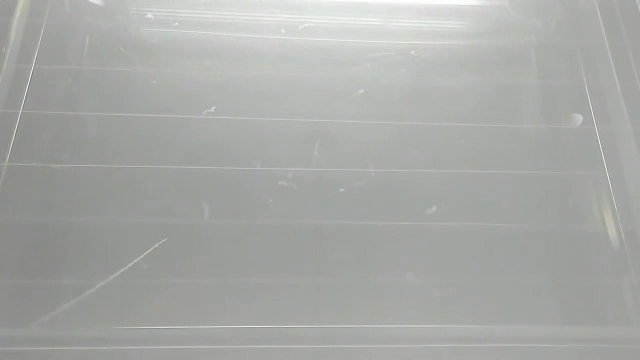alpha: (87, 1, 109, 10)
